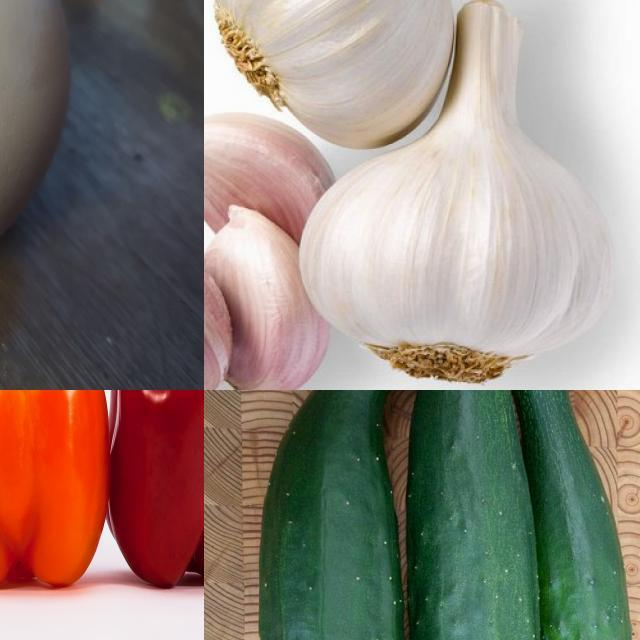bell_pepper: (1, 391, 106, 592), (109, 391, 205, 591)
cucumber: (249, 391, 436, 640), (406, 391, 554, 640), (508, 391, 637, 640)
egg: (1, 1, 77, 272)
garlic: (303, 7, 611, 379), (205, 1, 548, 152), (205, 202, 324, 391), (205, 110, 340, 257)
